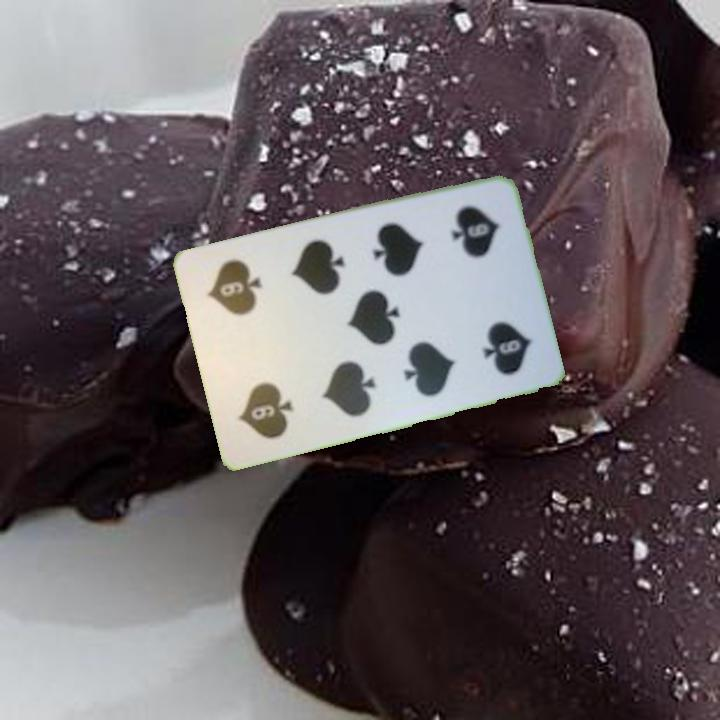s_9.png: (212, 336, 319, 453), (419, 188, 525, 304)
